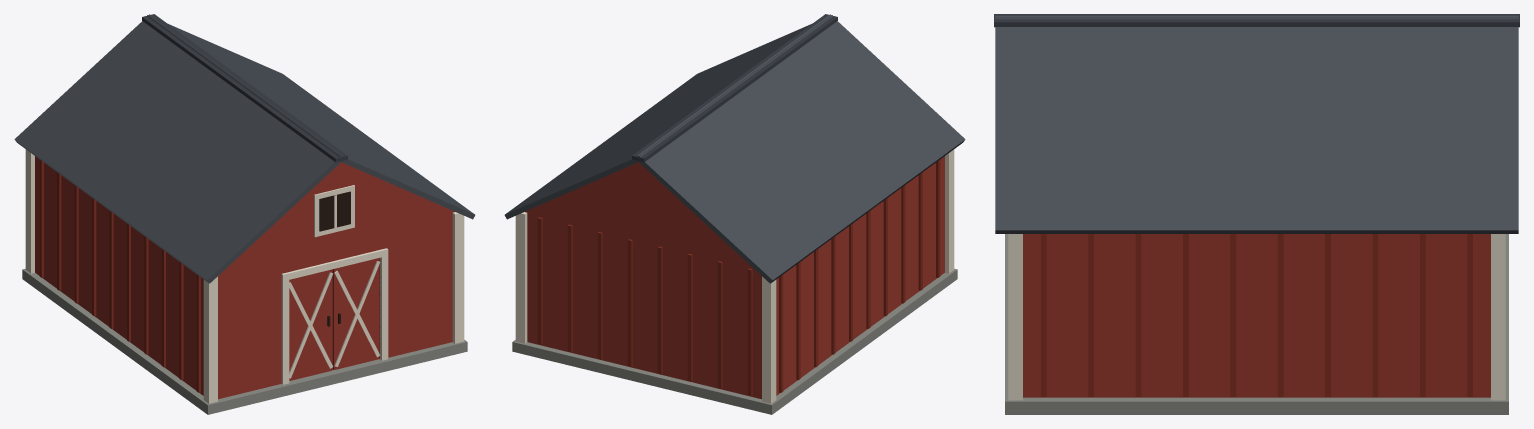
File: barn.glb
3 renders of one model, left to right at view 1: azimuth 30°, elevation 25°; view 2: azimuth 150°, elevation 25°; view 3: azimuth 270°, elevation 25°, orthographic. The views are drawn at different scales.
Visible parts, largest first — view 1: roof_L, wall_side_1, wall_front_1, wall_front, roof_R, gable_front, foundation, door_L_leaf, door_R_leaf, roof_ridge, wall_front_header, corner_post_2 (+21 smaller); view 2: roof_L, wall_back, wall_side_1, gable_back, roof_R, foundation, roof_ridge, corner_post_3, corner_post_1, corner_post_2, batten_23, batten_20 (+16 smaller); view 3: roof_R, wall_side, foundation, roof_ridge, corner_post, corner_post_1, roof_L, batten_2, batten_4, batten_5, batten_7, batten (+5 smaller).
Boxes of the visible parts, left/top/right/bottom form: roof_L: left=14, top=14, right=342, bottom=283; wall_side_1: left=35, top=156, right=218, bottom=398; wall_front_1: left=218, top=253, right=287, bottom=398; wall_front: left=379, top=213, right=449, bottom=358; roof_R: left=147, top=15, right=475, bottom=219; gable_front: left=227, top=162, right=454, bottom=267; foundation: left=22, top=268, right=467, bottom=414; door_L_leaf: left=332, top=258, right=379, bottom=369; door_R_leaf: left=289, top=269, right=332, bottom=380; roof_ridge: left=142, top=14, right=347, bottom=162; wall_front_header: left=288, top=230, right=380, bottom=272; corner_post_2: left=203, top=276, right=217, bottom=403; roof_L: left=637, top=14, right=965, bottom=283; wall_back: left=530, top=213, right=761, bottom=398; wall_side_1: left=761, top=156, right=944, bottom=398; gable_back: left=525, top=162, right=752, bottom=267; roof_R: left=504, top=15, right=832, bottom=219; foundation: left=512, top=268, right=957, bottom=414; roof_ridge: left=632, top=14, right=837, bottom=162; corner_post_3: left=762, top=276, right=776, bottom=403; corner_post_1: left=515, top=212, right=527, bottom=343; corner_post_2: left=945, top=149, right=954, bottom=273; batten_23: left=657, top=246, right=662, bottom=374; batten_20: left=747, top=268, right=752, bottom=396; roof_R: left=995, top=15, right=1518, bottom=233; wall_side: left=1023, top=234, right=1490, bottom=397; foundation: left=1005, top=234, right=1508, bottom=414; roof_ridge: left=994, top=14, right=1519, bottom=27; corner_post: left=1008, top=234, right=1022, bottom=400; corner_post_1: left=1491, top=234, right=1505, bottom=400; roof_L: left=995, top=17, right=1518, bottom=19; batten_2: left=1372, top=234, right=1378, bottom=396; batten_4: left=1277, top=234, right=1283, bottom=396; batten_5: left=1230, top=234, right=1236, bottom=396; batten_7: left=1135, top=234, right=1141, bottom=396; batten: left=1467, top=234, right=1472, bottom=396.
Size of the model in its own units: 8.68 by 7.12 by 10.85.
